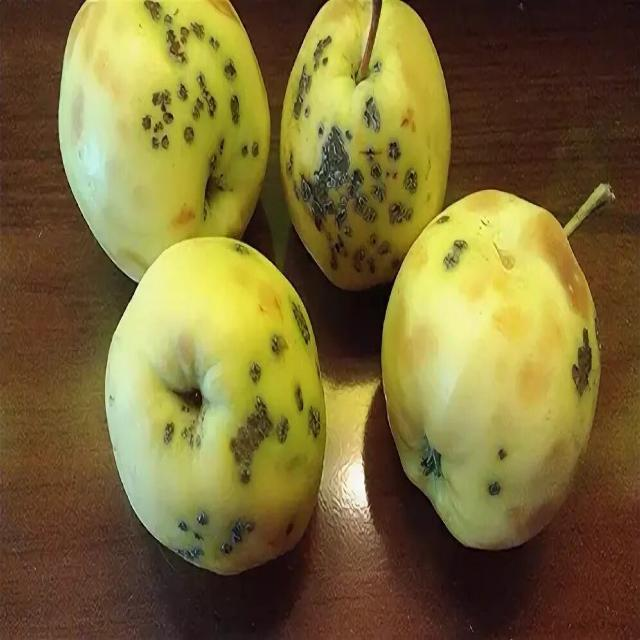Rotten: (382, 185, 602, 545), (112, 242, 330, 582), (60, 10, 270, 258), (287, 13, 465, 264)
